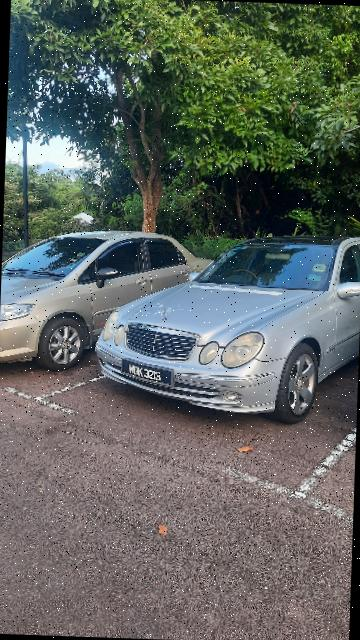License_Plate: (117, 359, 180, 392)
car: (96, 225, 360, 432)
